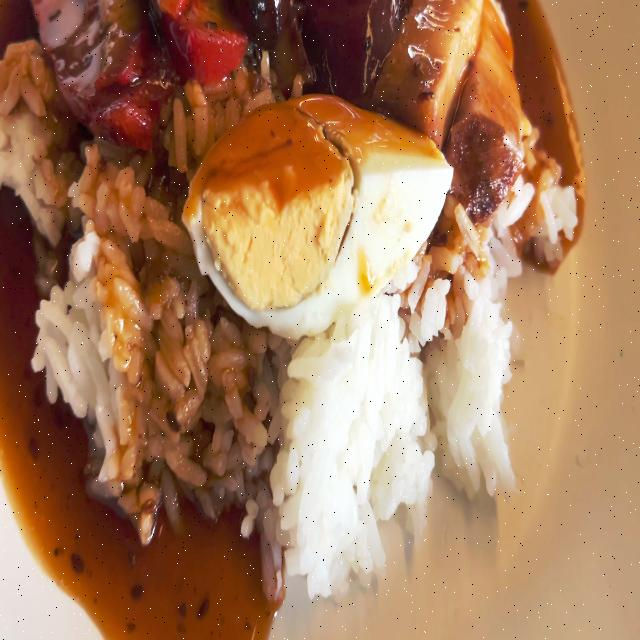boiled_egg: (205, 100, 453, 311)
chainese_sausage: (251, 0, 391, 88)
crispy_pork: (394, 0, 520, 204)
red_pork: (41, 0, 232, 143), (156, 0, 249, 79), (53, 0, 136, 79), (95, 59, 172, 138)
red_pork_and_crispy_pork: (0, 0, 563, 582)
rice: (35, 144, 195, 495), (203, 325, 425, 565), (431, 213, 544, 477), (0, 27, 70, 247)
